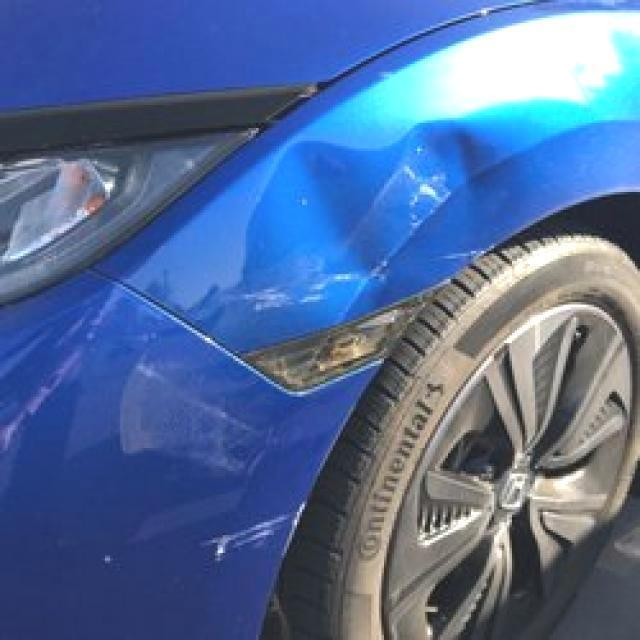minor: (180, 93, 586, 358), (202, 506, 303, 562)
